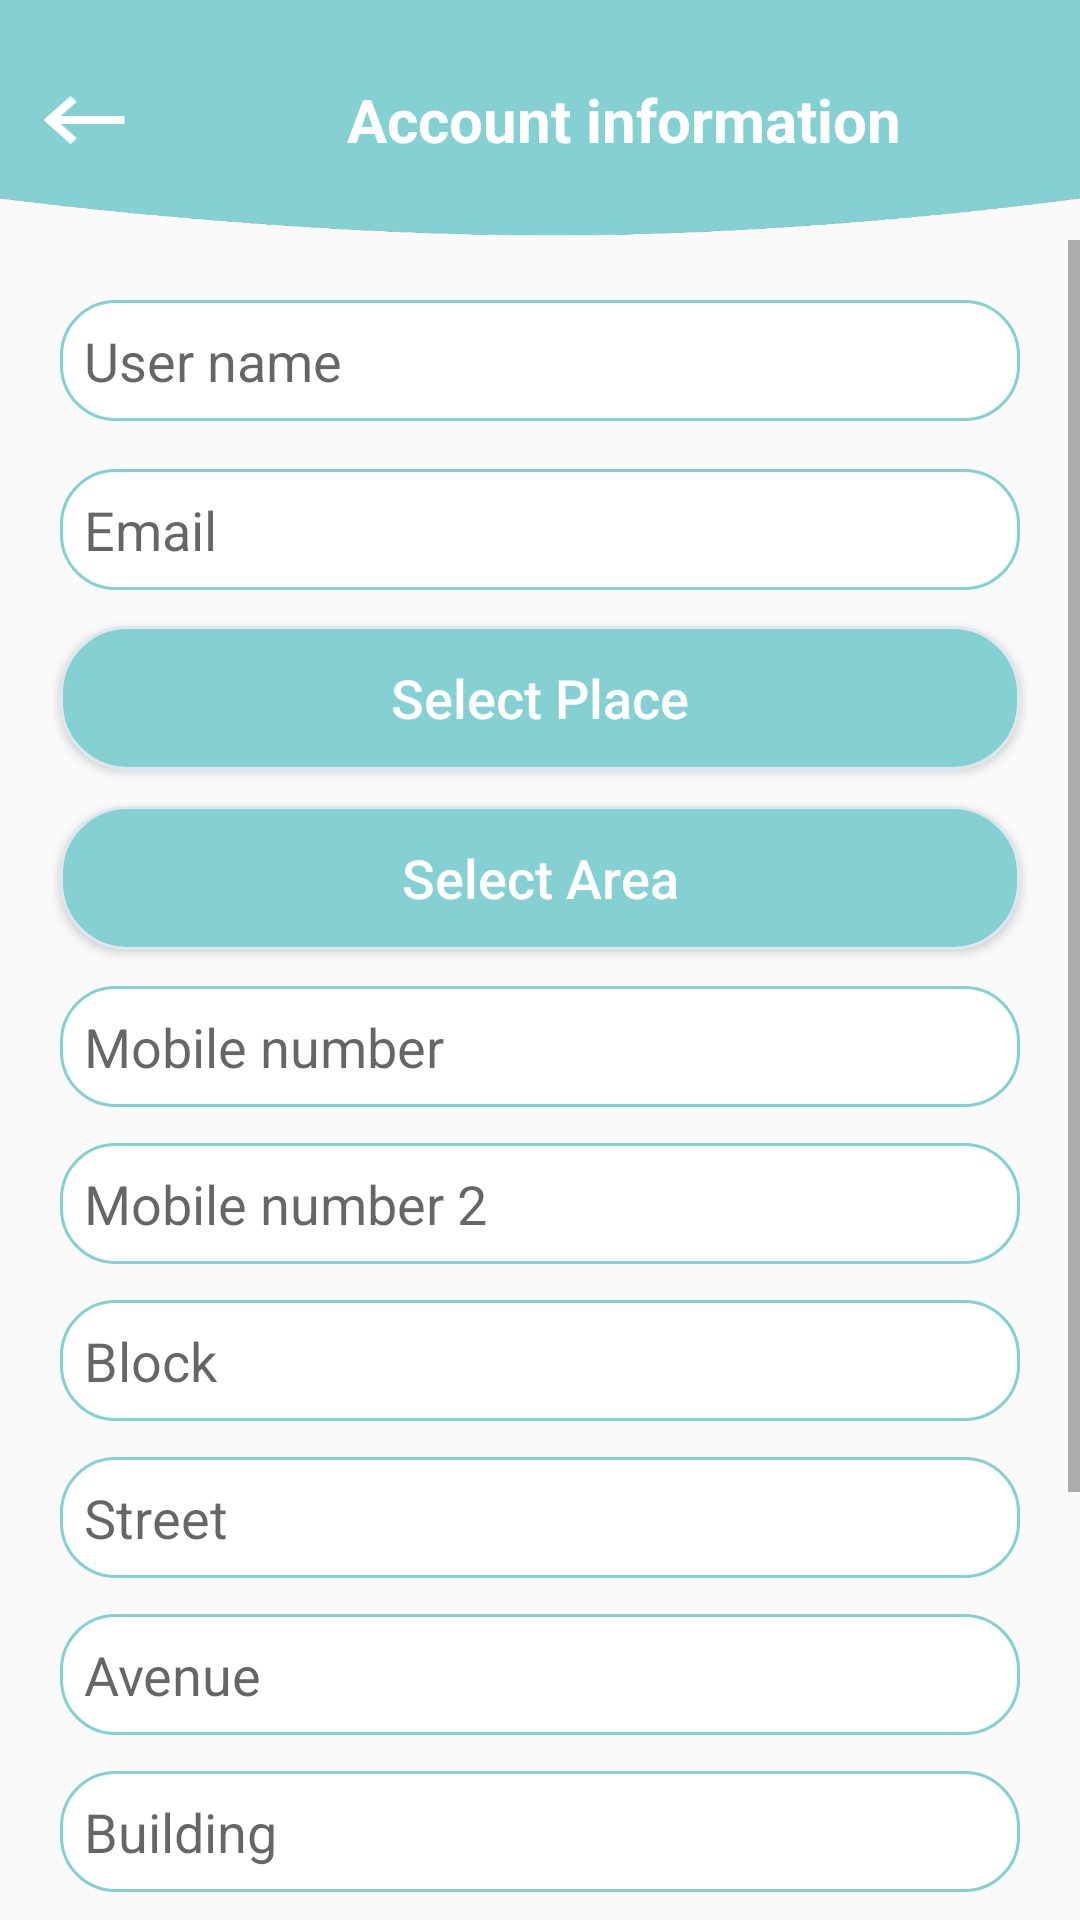

Locate icon controls on the screen. Image size 1080 × 1920, boxes as (x1, y1, x2, y2).
arrow: (44, 96, 125, 144)
